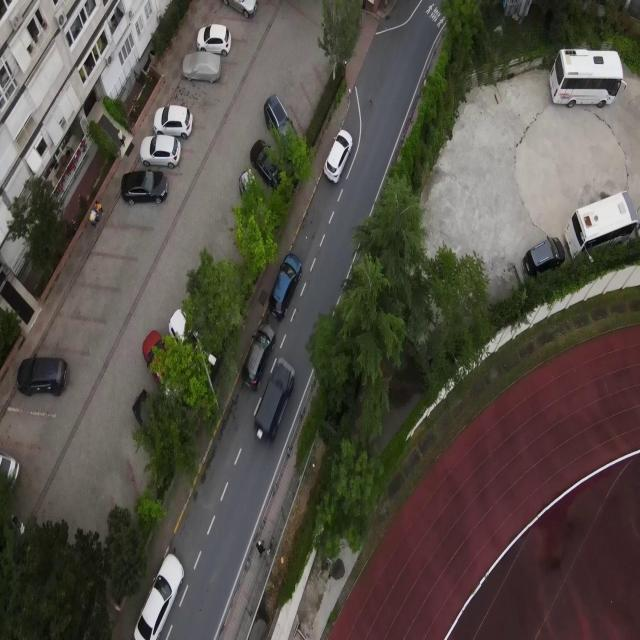p3rson: (117, 129, 126, 148), (256, 540, 266, 557), (97, 200, 104, 217), (94, 200, 100, 212)
